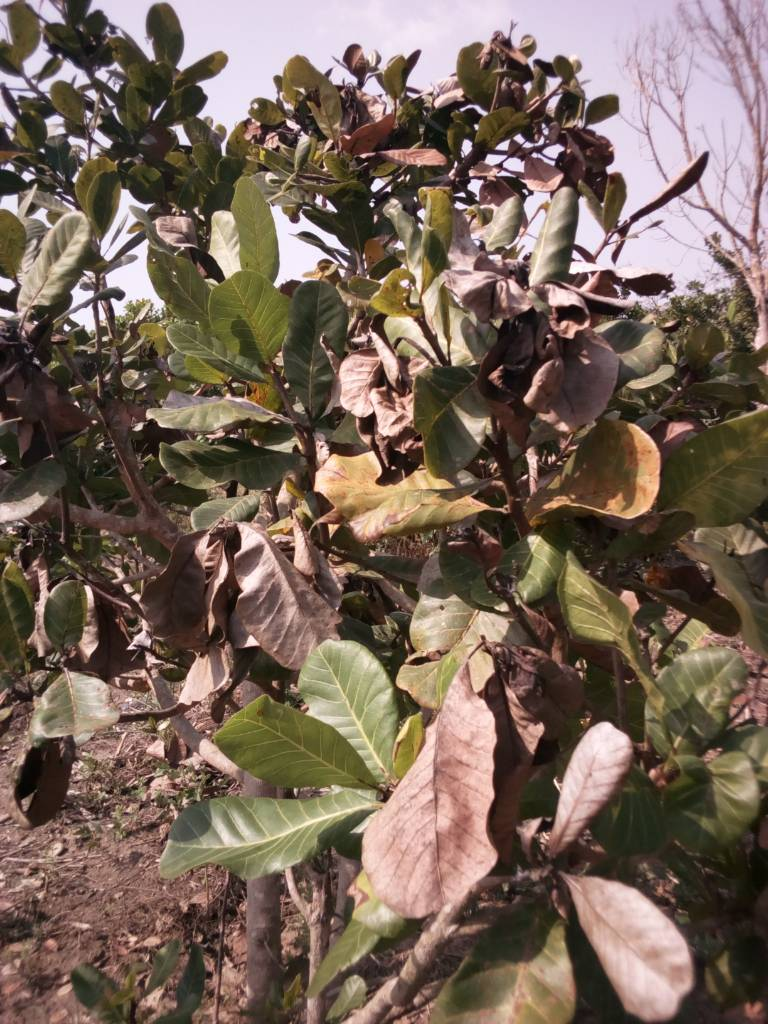Dessèchement des bourgeons: (475, 627, 589, 717), (511, 820, 609, 900)
